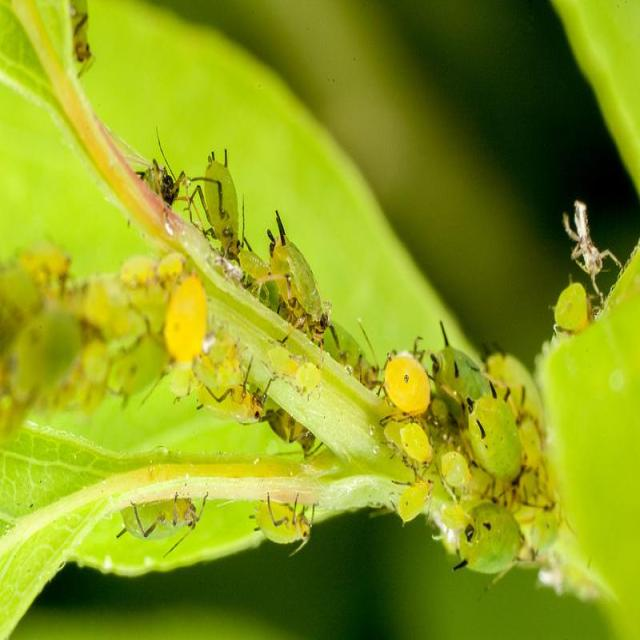Aphids: (259, 204, 347, 363), (267, 212, 350, 370), (438, 497, 538, 597), (192, 126, 254, 279), (106, 486, 216, 568), (184, 132, 244, 268), (464, 388, 536, 492), (252, 490, 319, 558)
